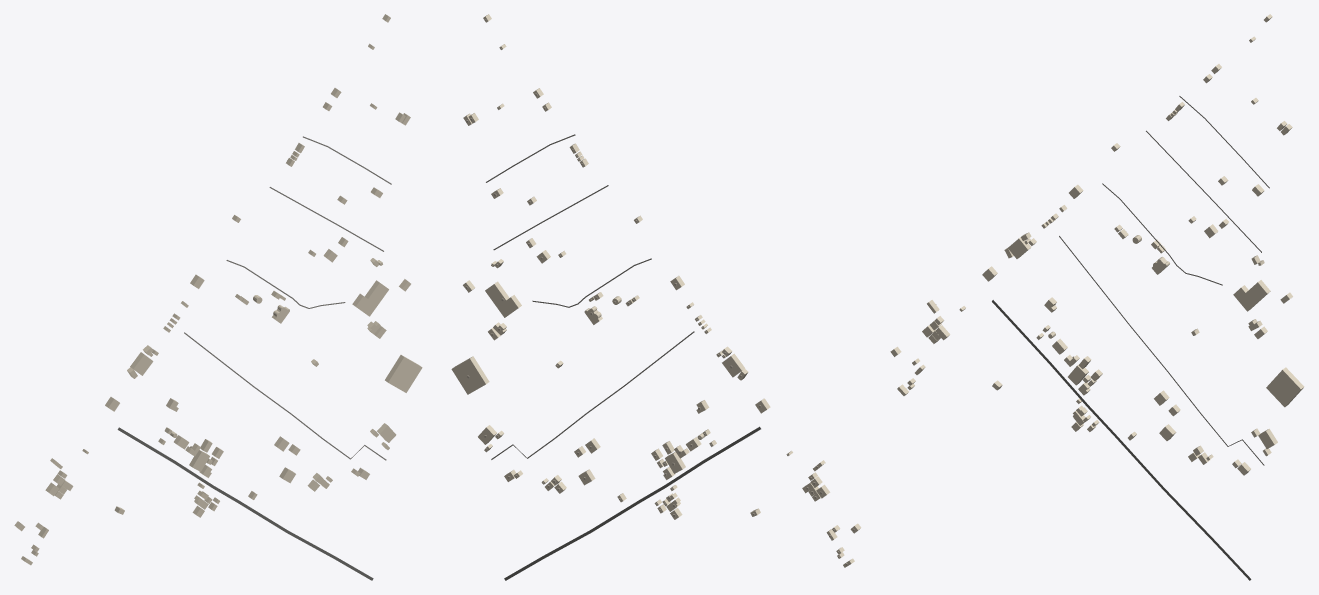
The model's file is historic-palestine-01_19_3427_3137.glb.
The picture shows the model from 3 angles, left to right: view 1: azimuth 30°, elevation 25°; view 2: azimuth 150°, elevation 25°; view 3: azimuth 330°, elevation 25°; orthographic projection.
Visible parts, largest first — view 1: Road .002, Building_.074, Building_.025; view 2: Road .002, Building_.074, Building_.025; view 3: Road .002, Building_.074, Building_.025.
Part boxes in pixels (box(x1,y1,x2,y2)): Road .002: box(117, 427, 373, 580); Building_.074: box(385, 355, 422, 392); Building_.025: box(352, 280, 388, 316); Road .002: box(504, 426, 760, 580); Building_.074: box(451, 356, 489, 394); Building_.025: box(485, 281, 521, 317); Road .002: box(992, 300, 1251, 580); Building_.074: box(1266, 367, 1304, 407); Building_.025: box(1233, 280, 1270, 311).
Size of the model in its own units: 507 by 670 by 8.7.
